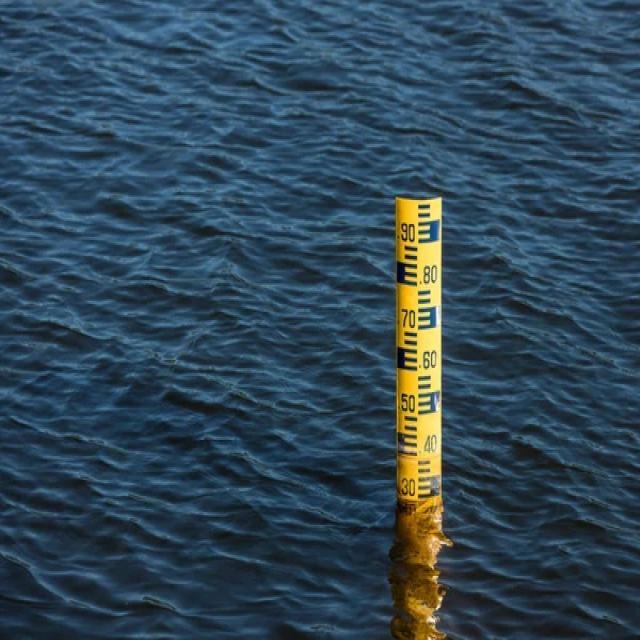ruler: (387, 184, 454, 516)
value: (418, 432, 442, 459), (418, 264, 441, 290), (418, 347, 441, 372), (398, 219, 420, 245), (399, 391, 419, 416), (399, 475, 419, 500), (401, 306, 419, 332)
